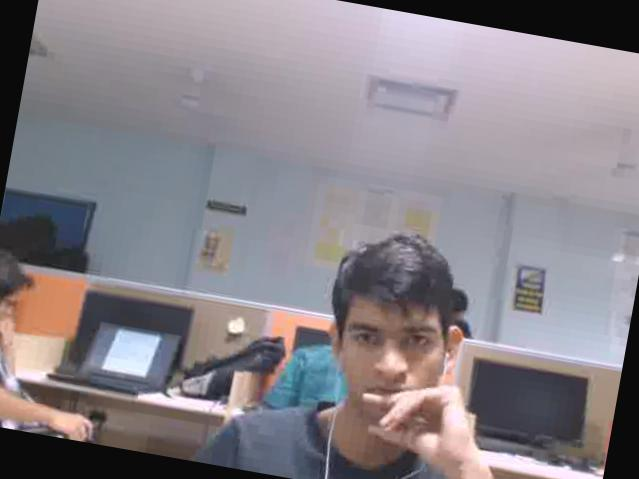bingung: (323, 278, 456, 431)
